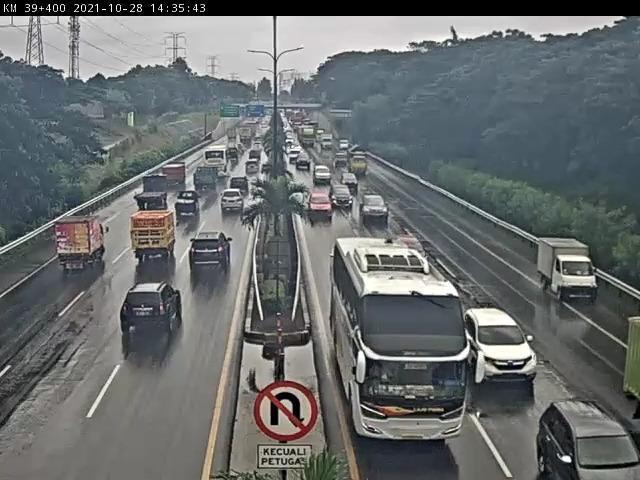bus: (334, 236, 472, 443), (204, 147, 234, 180)
car: (537, 398, 640, 480), (466, 309, 540, 382), (538, 240, 600, 299), (122, 282, 185, 337), (192, 234, 232, 273), (361, 195, 389, 221), (177, 192, 202, 219), (221, 190, 246, 214), (310, 194, 333, 216), (333, 187, 353, 207), (232, 179, 251, 196), (403, 239, 420, 256), (315, 167, 332, 183), (245, 162, 262, 177), (341, 174, 357, 189), (297, 155, 311, 167), (233, 146, 246, 158), (247, 150, 261, 161), (335, 152, 347, 164)
truck: (56, 218, 108, 268), (131, 212, 177, 259), (623, 315, 640, 424), (134, 176, 172, 211), (194, 168, 220, 192), (163, 164, 187, 187), (350, 152, 370, 175), (300, 126, 316, 148), (239, 129, 255, 146), (225, 149, 239, 165), (321, 134, 333, 149)
